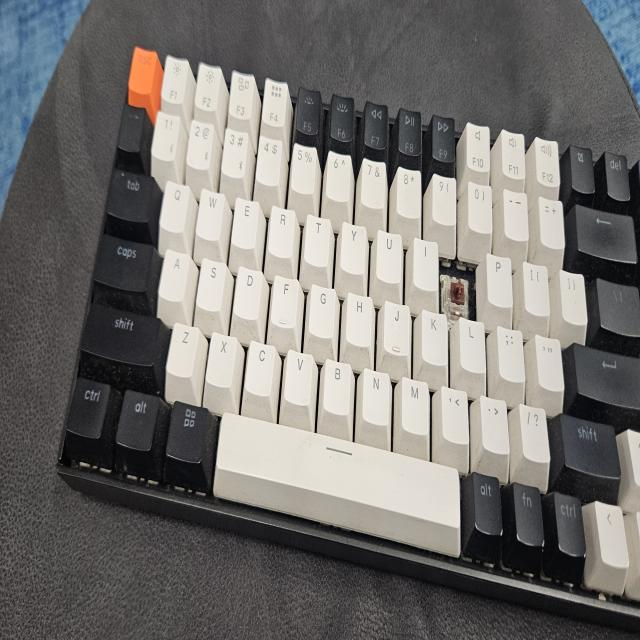C: (446, 268, 474, 318)
